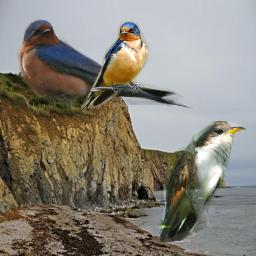Cuckoo: (159, 121, 246, 242)
Swallow: (17, 19, 193, 109), (81, 21, 149, 110)
